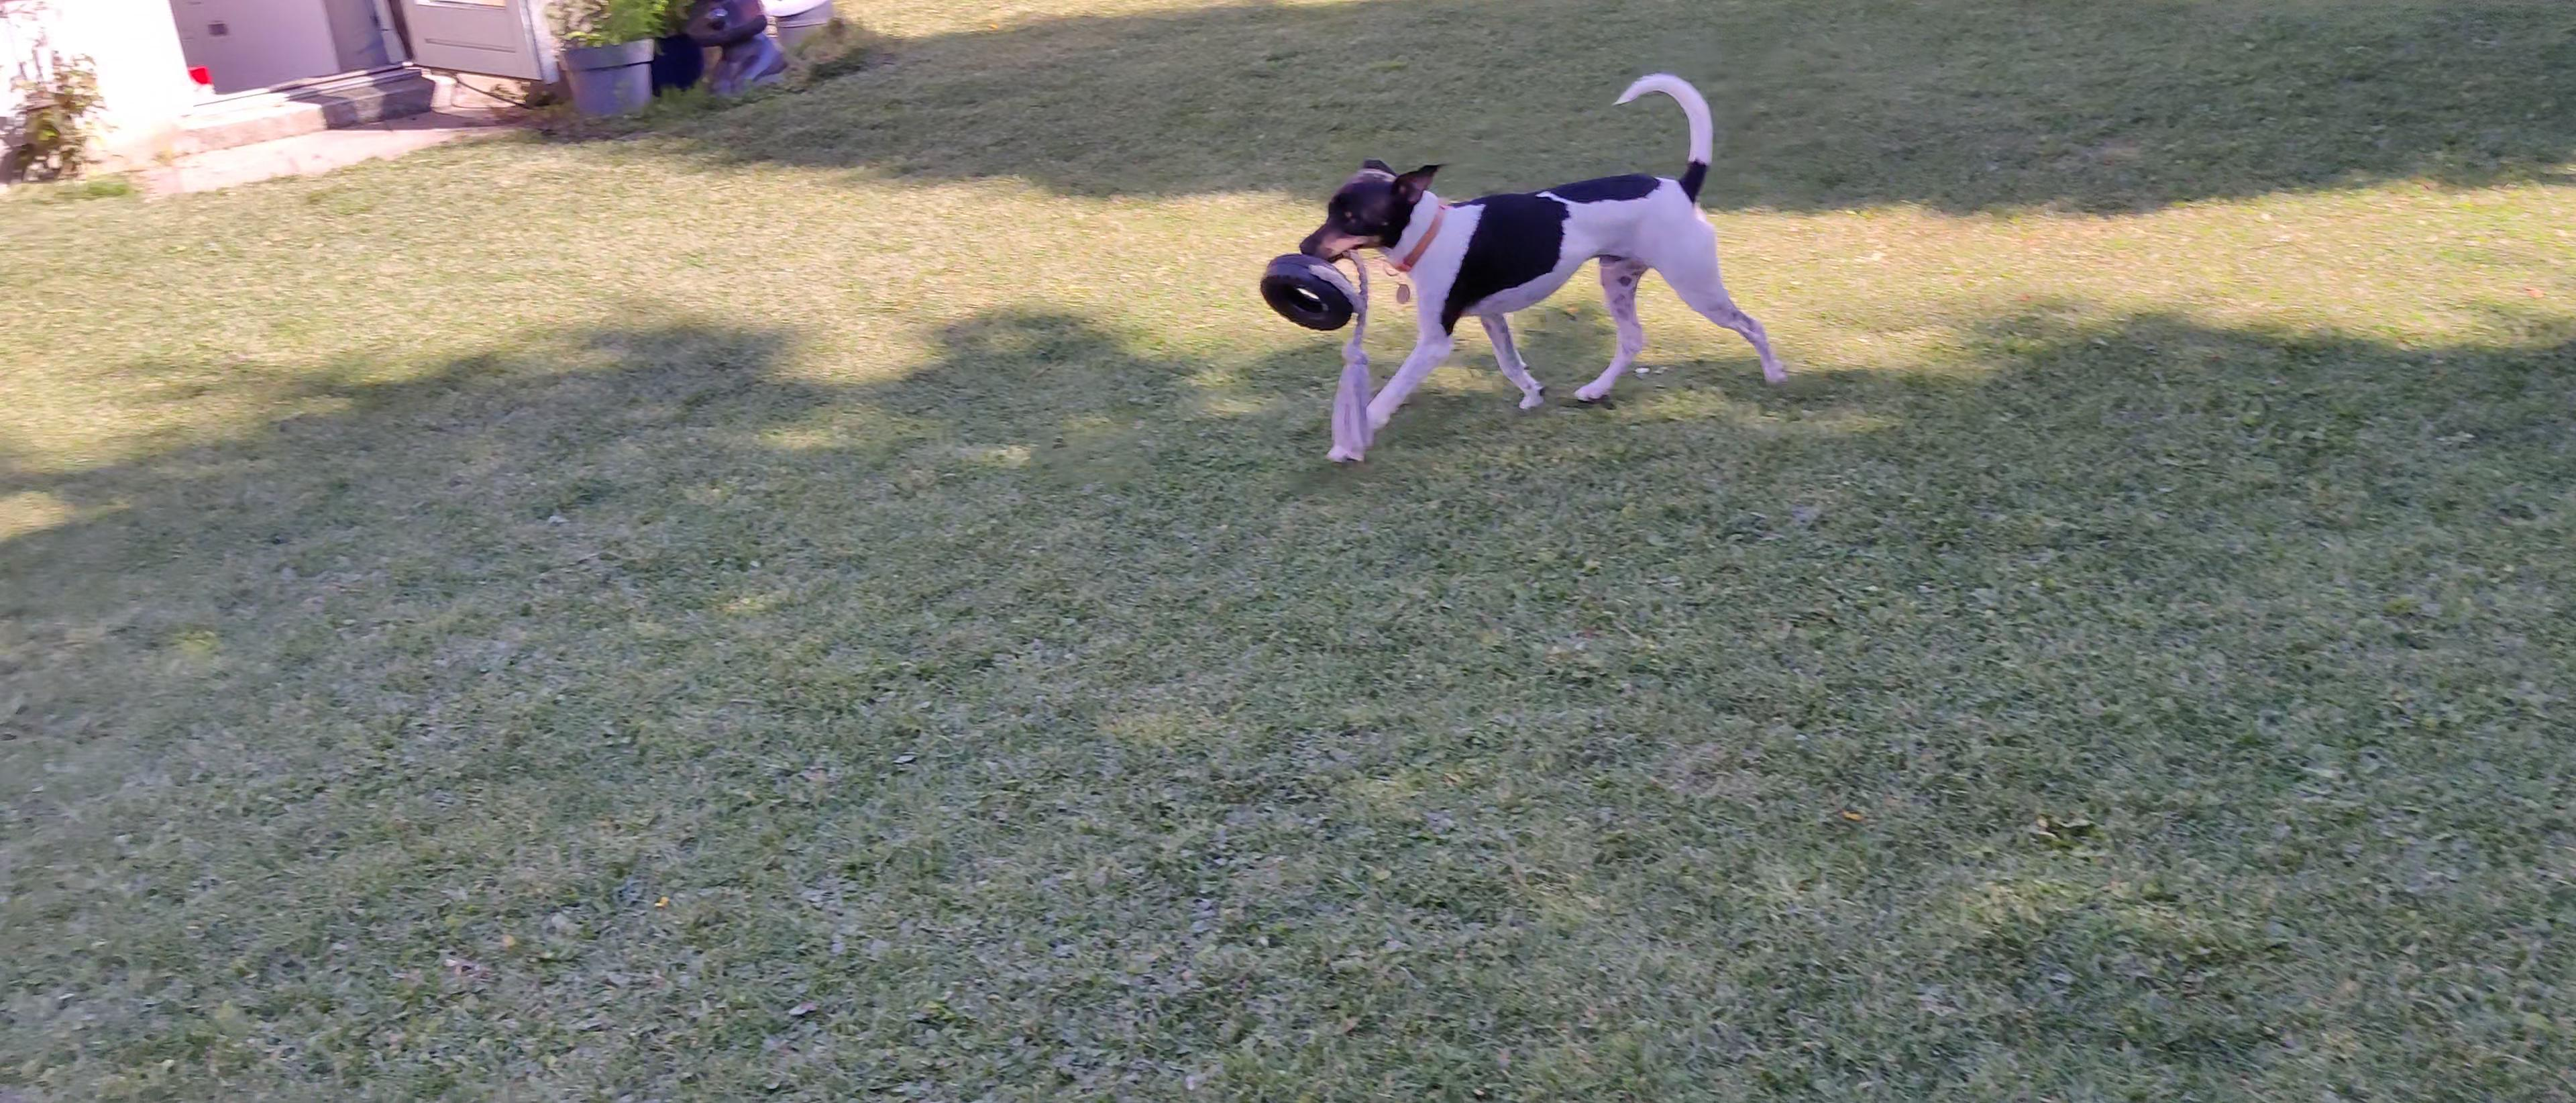Dog: (1288, 62, 1802, 454)
